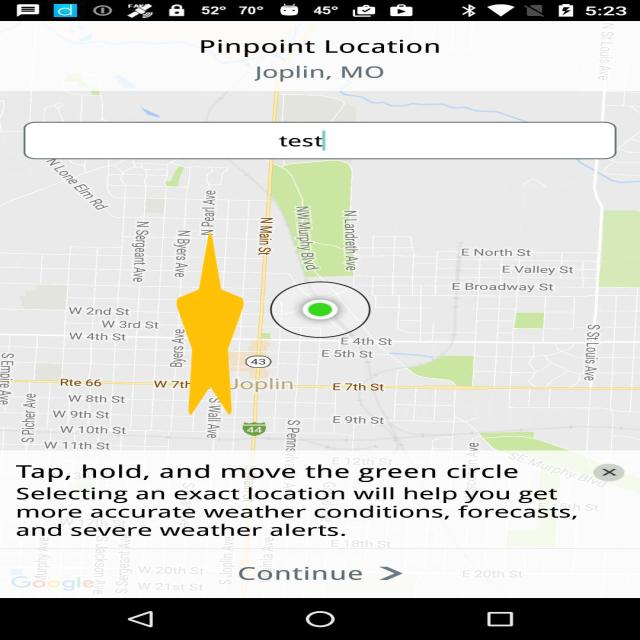forced continuity: (176, 233, 244, 415)
